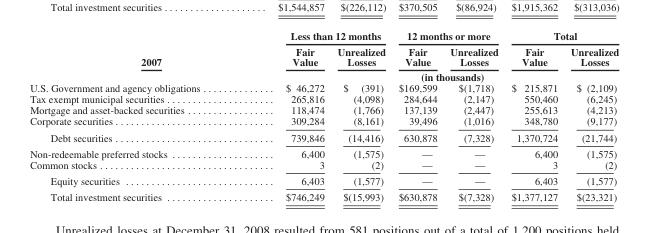table: (29, 29, 618, 202)
table column: (29, 29, 242, 202), (242, 29, 330, 202), (330, 29, 391, 202), (443, 29, 504, 202), (504, 29, 563, 202), (563, 29, 618, 202), (391, 29, 443, 202)
table column header: (29, 29, 618, 82)
table row: (29, 43, 618, 69), (29, 128, 618, 145), (29, 172, 618, 188), (29, 29, 618, 43), (29, 158, 618, 172), (29, 188, 618, 202), (29, 69, 618, 82), (29, 115, 618, 128), (29, 145, 618, 158), (29, 82, 618, 93), (29, 93, 618, 104), (29, 104, 618, 115)
table spanning cell: (29, 29, 242, 82), (242, 69, 618, 82), (242, 29, 391, 43), (504, 29, 618, 43), (391, 29, 504, 43)
